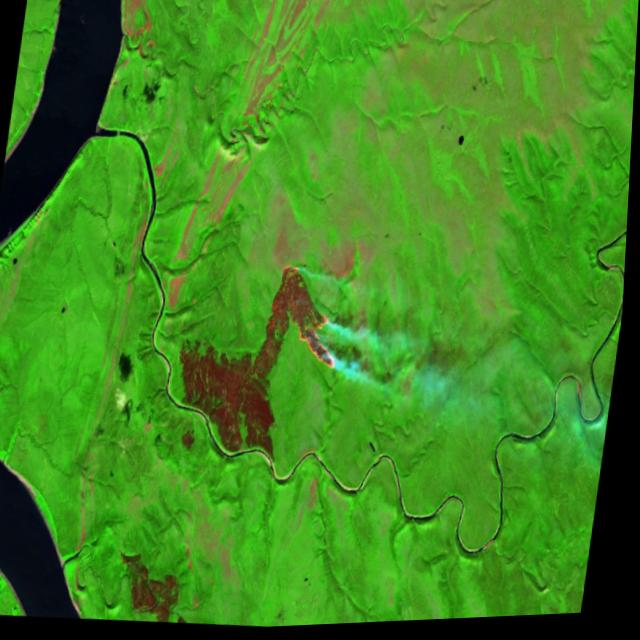fire: (265, 260, 355, 379)
